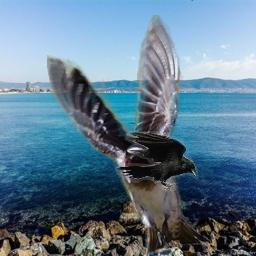Crow: (115, 131, 198, 191)
Swallow: (47, 15, 209, 253)
